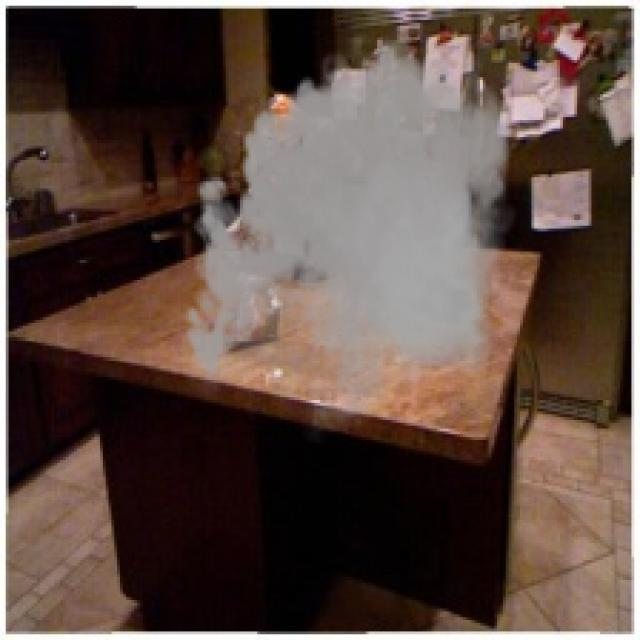Smoke: (174, 23, 523, 443)
